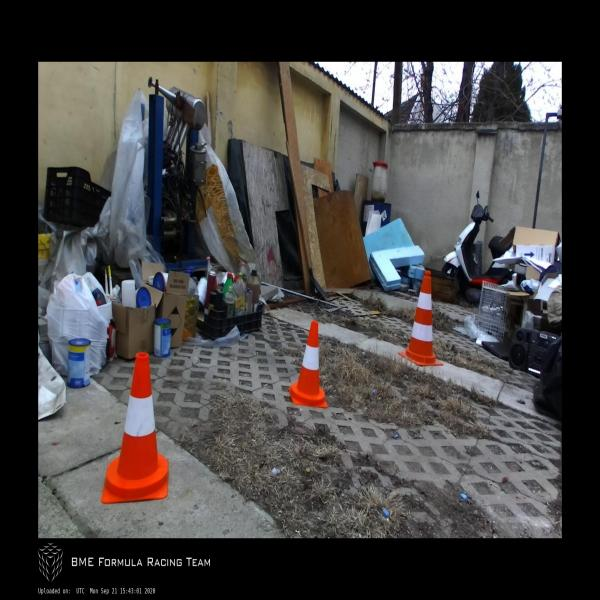large_orange_cone: (398, 270, 443, 366)
orange_cone: (101, 353, 170, 503), (288, 321, 326, 409)
